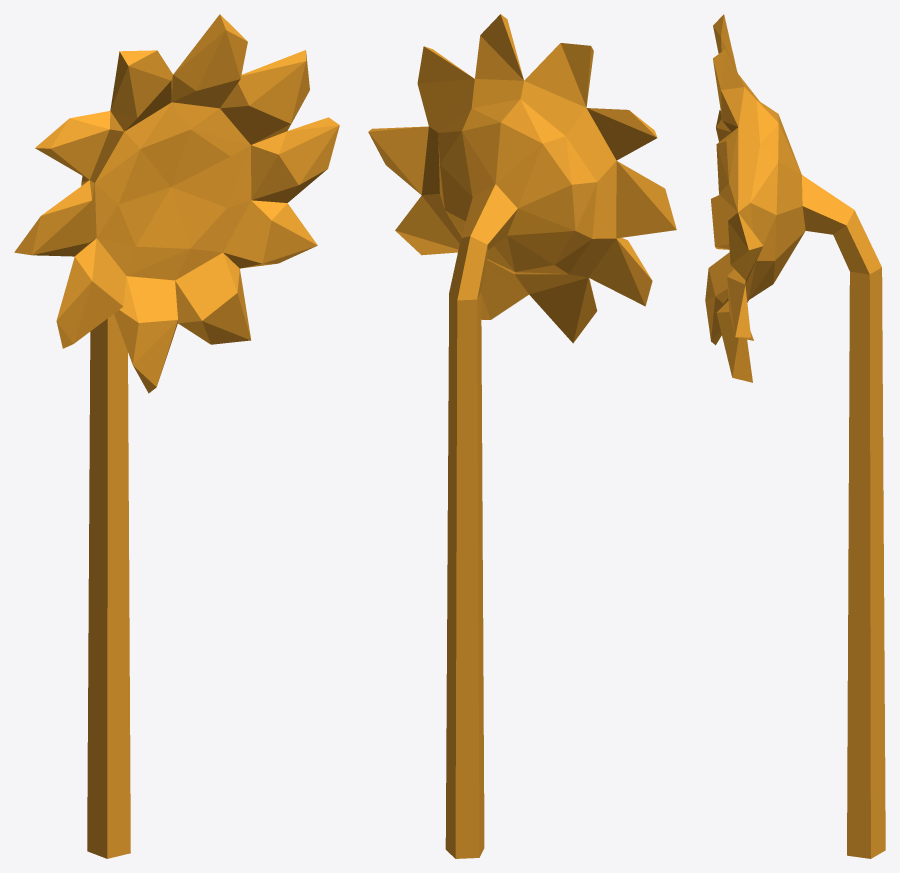
The model's file is SM_Sunflower_Flower_B.fbx.
The picture shows the model from 3 angles, left to right: view 1: azimuth 30°, elevation 25°; view 2: azimuth 150°, elevation 25°; view 3: azimuth 270°, elevation 25°; orthographic projection. The views are drawn at different scales.
Visible parts, largest first — view 1: sunflower-flower-b; view 2: sunflower-flower-b; view 3: sunflower-flower-b.
Part boxes in pixels (x1,y1,x2,y2): sunflower-flower-b: (14,14,339,858); sunflower-flower-b: (368,14,676,858); sunflower-flower-b: (705,14,885,858).
Size of the model in its own units: 0.4142 by 1.04 by 0.2084.
